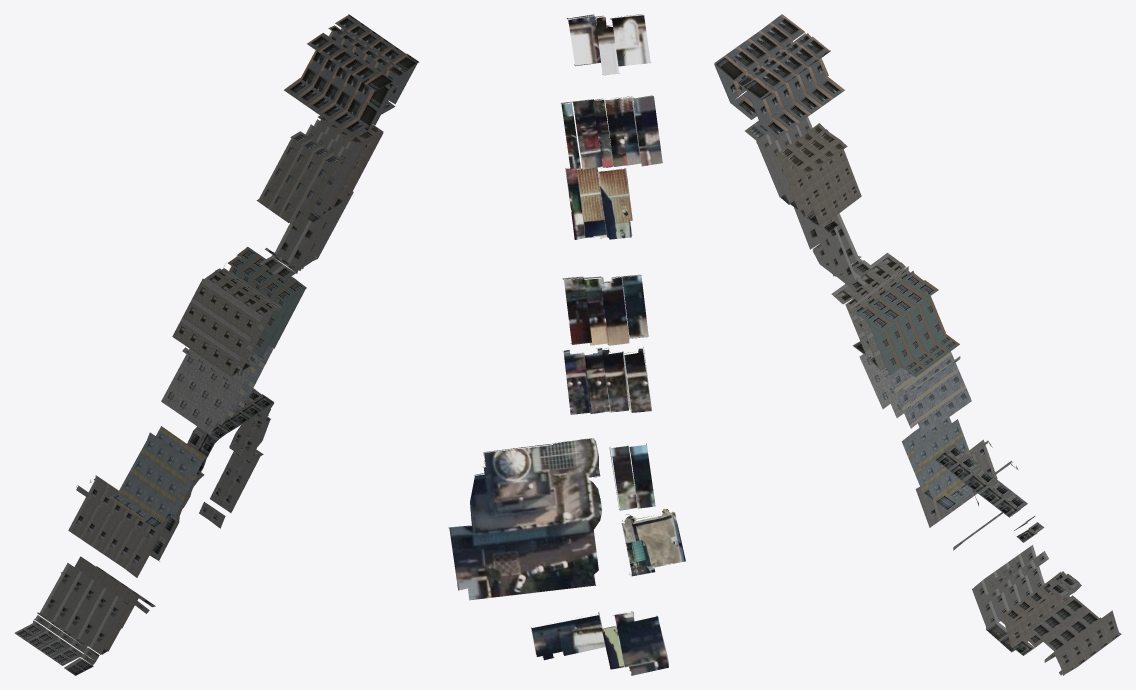
Rendered from tile_LOD4_r5_c7.glb.
The picture shows the model from 3 angles, left to right: view 1: azimuth 30°, elevation 25°; view 2: azimuth 150°, elevation 25°; view 3: azimuth 270°, elevation 25°; orthographic projection. The views are drawn at different scales.
Bounding box in the file's own units: 65.5 × 162 × 87.
Materials: 84 (84 with a texture image).
